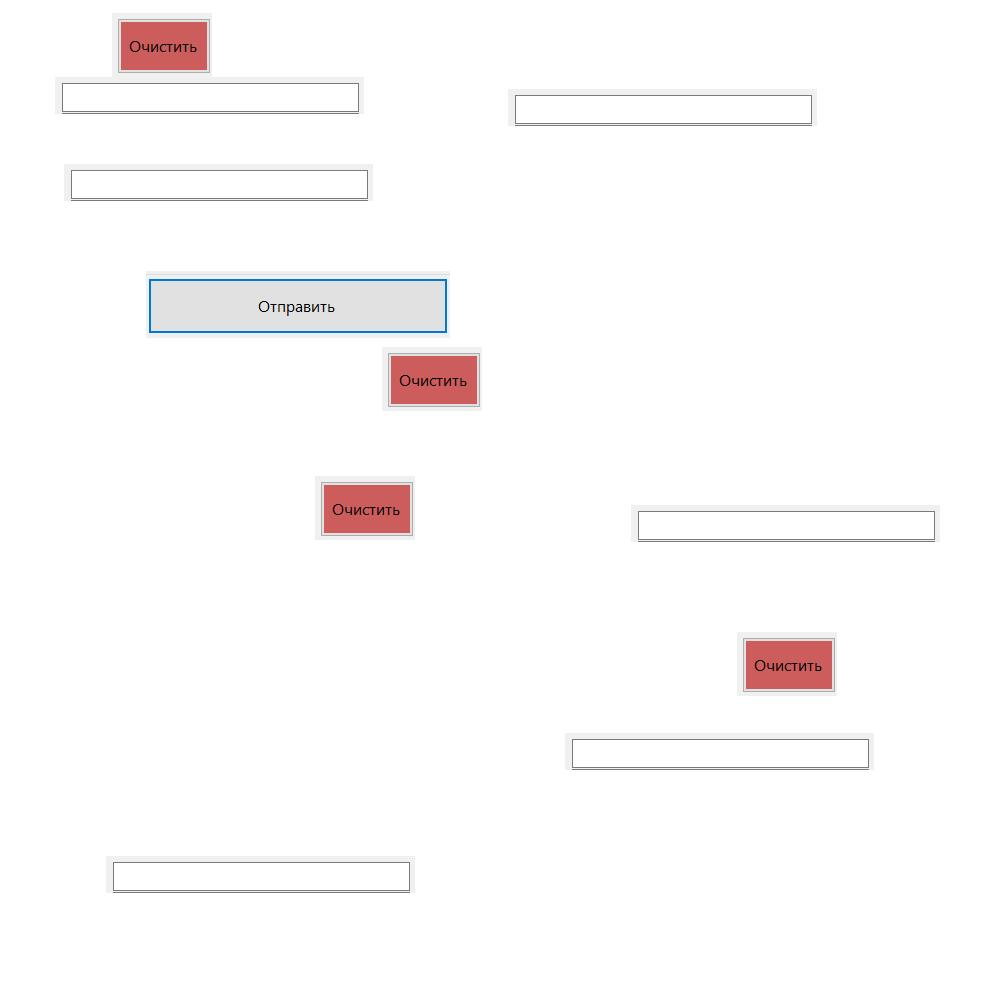Button: (146, 271, 450, 338), (382, 347, 482, 411), (737, 632, 837, 696), (112, 13, 212, 77), (315, 476, 415, 540)
EditText-: (565, 733, 874, 770), (106, 856, 415, 893), (631, 505, 940, 542), (508, 89, 817, 126), (64, 164, 373, 201), (55, 77, 364, 114)
